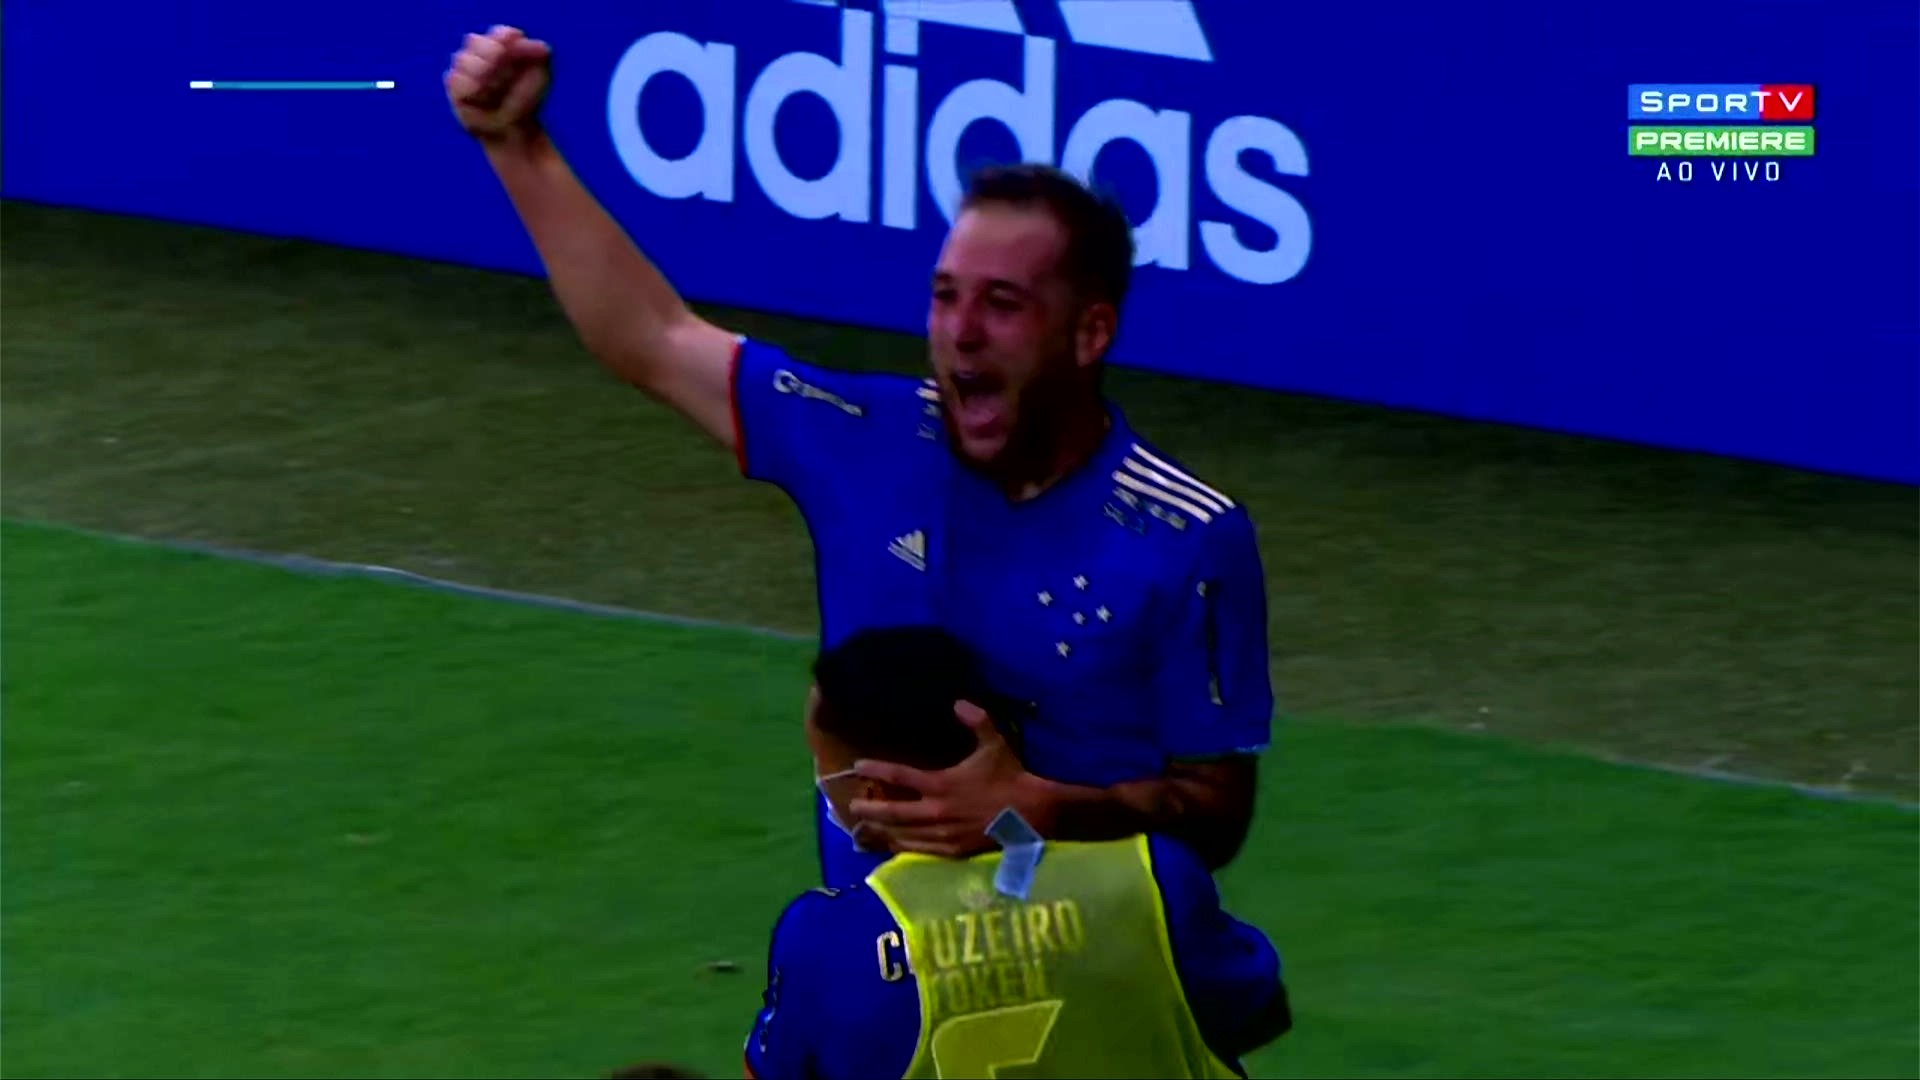SporTV: (1629, 84, 1813, 121)
